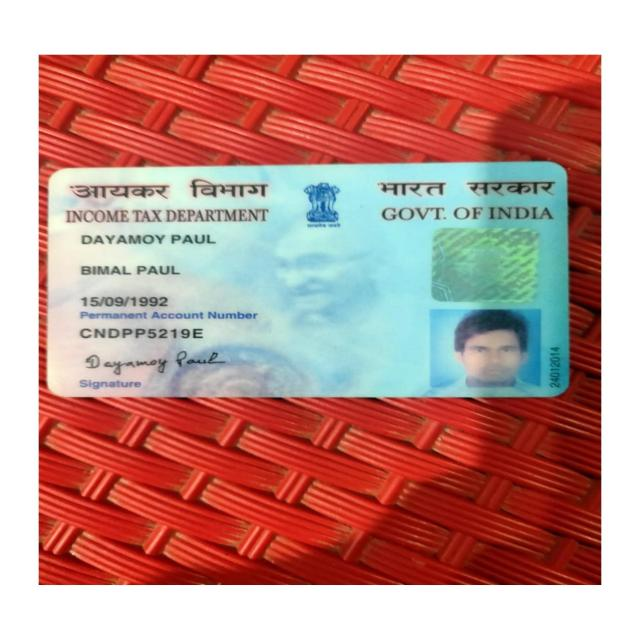pan_card: (53, 169, 566, 392)
